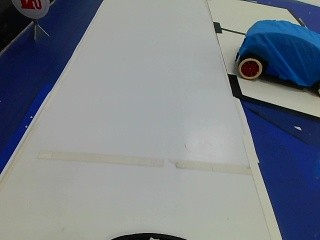battery: (8, 0, 52, 19)
car: (233, 16, 320, 88)
